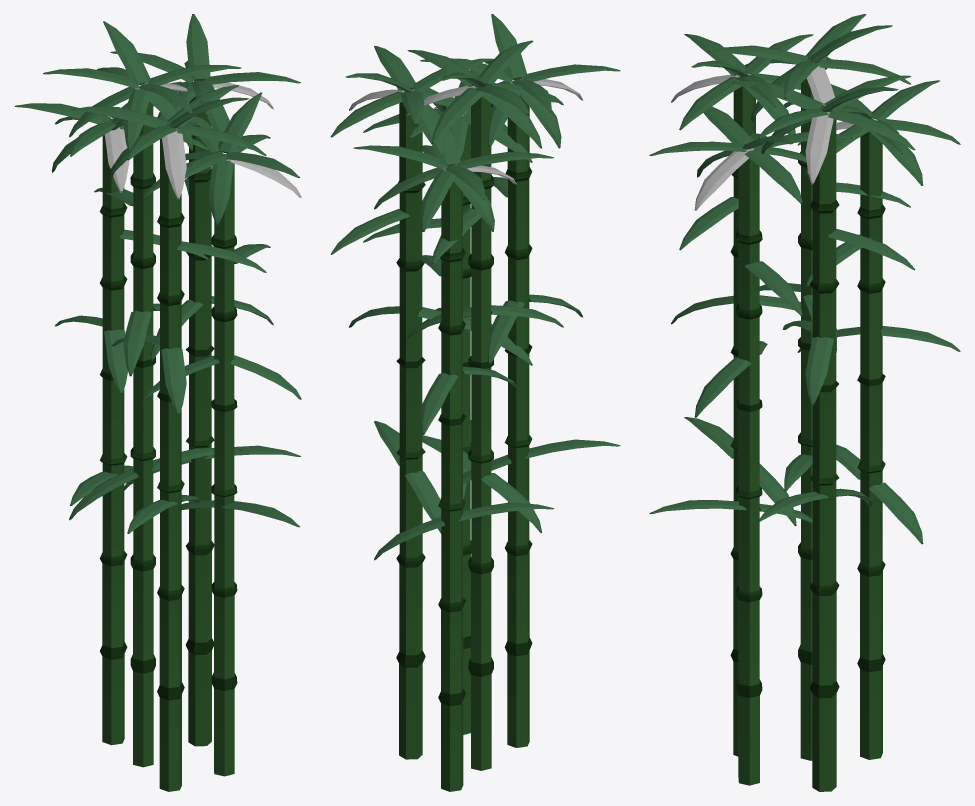
Rendered from conj_bambus_pequeno.fbx.
3 renders of one model, left to right at view 1: azimuth 30°, elevation 25°; view 2: azimuth 150°, elevation 25°; view 3: azimuth 270°, elevation 25°, orthographic. The views are drawn at different scales.
Parts seen in each view (by area): view 1: bambu7; view 2: bambu7; view 3: bambu7.
Boxes of the visible parts, <box> form: bambu7: <box>14,14,301,791</box>; bambu7: <box>330,14,620,791</box>; bambu7: <box>649,14,960,791</box>.
Bounding box in the file's own units: 7.82 × 25.37 × 9.8.
